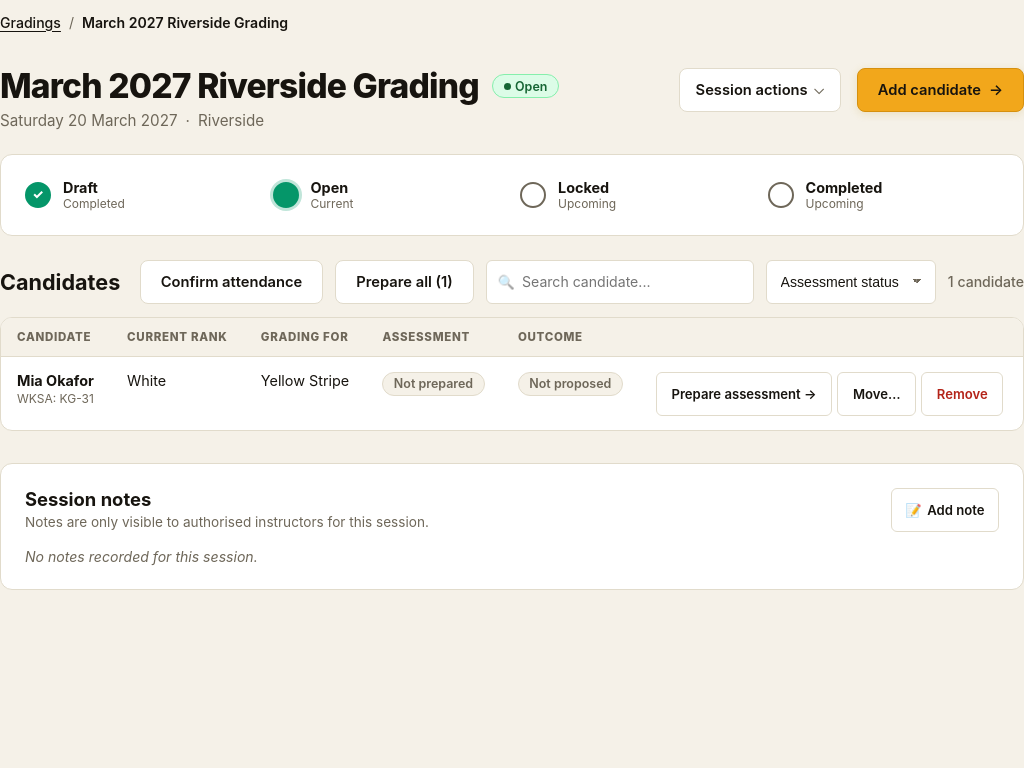
Test case: GradingSessionDetailScreen registration actions › removes a registration after confirming
Click the button with aria-label "Remove Mia Okafor's registration" at point(962, 394), box [921,372,1003,416]
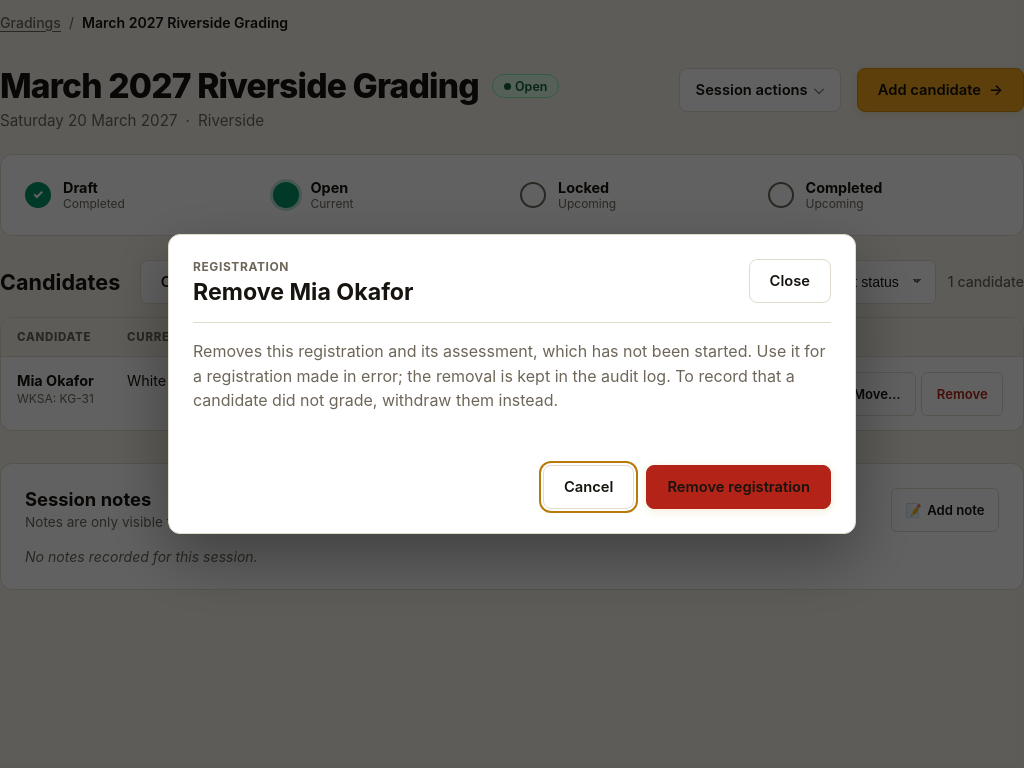
Now the dialog "Remove Mia Okafor" shows "its assessment, which has not been started", box [193,341,825,410]
Click the button "Remove registration" at point(739, 487), box [646,465,831,509]
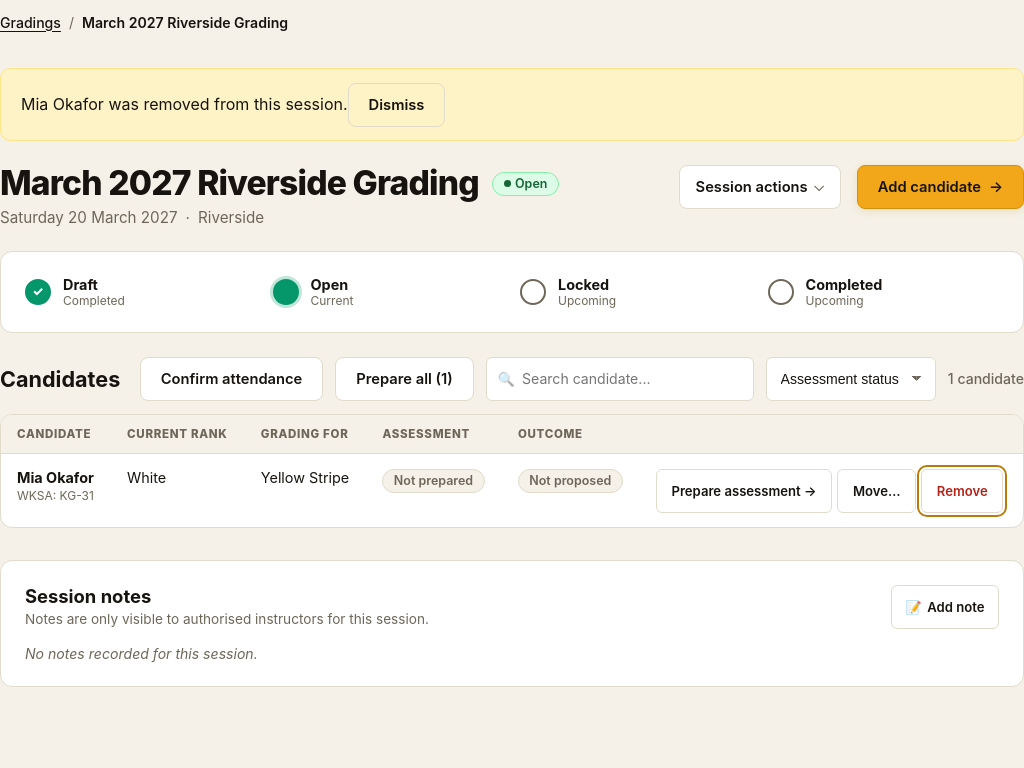
Now the text "Mia Okafor was removed from this session." is shown, box [21,94,348,114]
